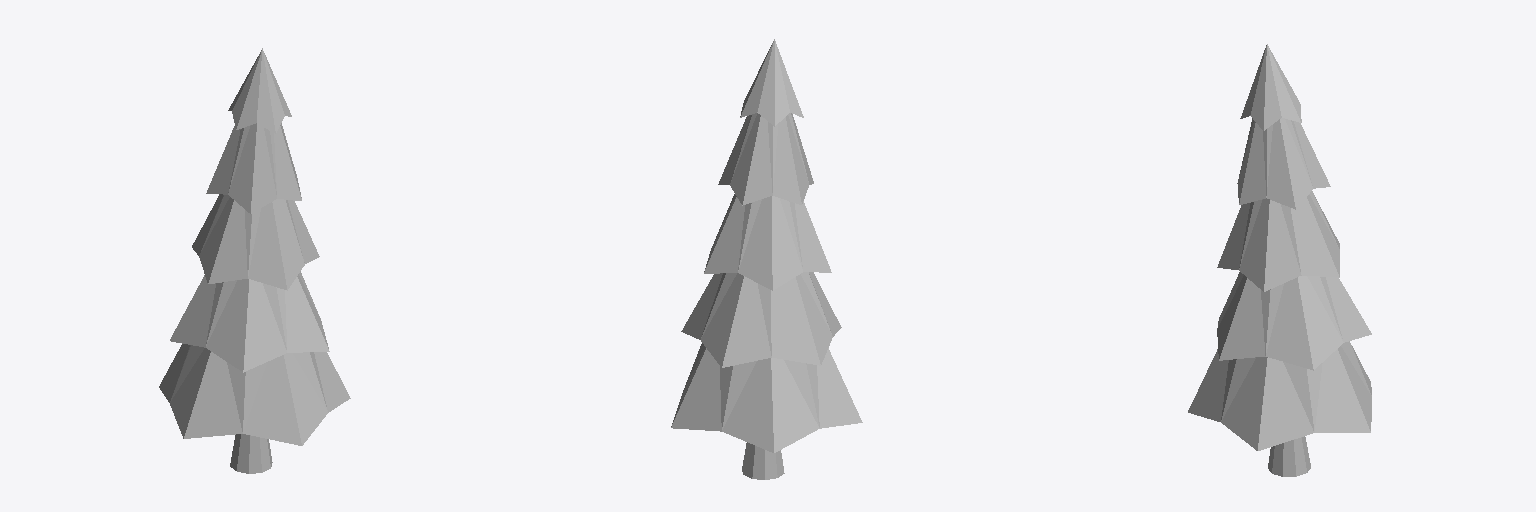
File: TreeSwaying2.obj
3 renders of one model, left to right at view 1: azimuth 30°, elevation 25°; view 2: azimuth 150°, elevation 25°; view 3: azimuth 270°, elevation 25°, orthographic.
Parts seen in each view (by area): view 1: Cylinder.001; view 2: Cylinder.001; view 3: Cylinder.001.
Part boxes in pixels (left/top/right/bottom): Cylinder.001: left=159, top=48, right=350, bottom=473; Cylinder.001: left=671, top=39, right=862, bottom=479; Cylinder.001: left=1188, top=44, right=1371, bottom=476.
Bounding box in the file's own units: 5.86 × 14.24 × 5.62.